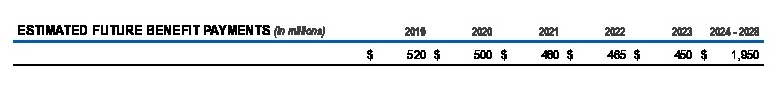table: (0, 0, 781, 87)
